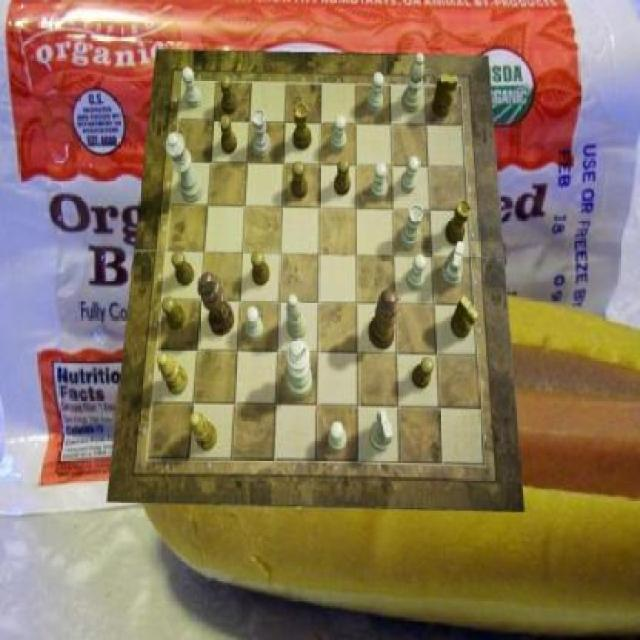bishop: (157, 354, 188, 396), (191, 412, 218, 451)
black-bishop: (198, 272, 234, 336)
black-king: (451, 296, 478, 340), (432, 74, 458, 118)
black-knight: (162, 295, 186, 330), (172, 251, 195, 285), (220, 76, 239, 116), (412, 358, 435, 391), (219, 116, 236, 156), (290, 162, 308, 199), (251, 251, 270, 285), (334, 157, 351, 195)
black-pawn: (368, 291, 400, 351)
black-queen: (444, 200, 470, 246), (292, 103, 312, 151)
black-rook: (402, 54, 424, 114), (286, 294, 307, 340)
white-bishop: (288, 340, 314, 400)
white-king: (442, 242, 466, 288), (371, 409, 394, 452)
white-knight: (183, 68, 203, 109), (400, 155, 420, 193), (408, 256, 428, 292), (370, 163, 388, 201), (330, 115, 348, 153), (368, 74, 384, 114), (245, 306, 262, 341), (328, 422, 347, 452)
white-pawn: (164, 132, 203, 203)
white-queen: (400, 205, 423, 250), (252, 110, 272, 158)
